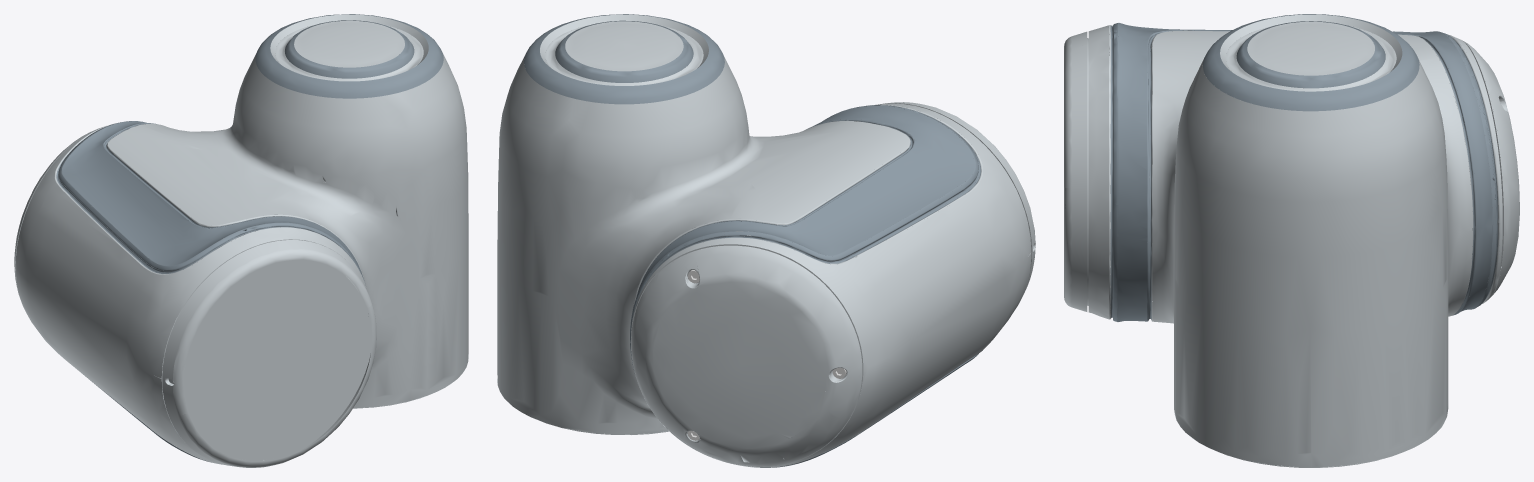
3 renders of one model, left to right at view 1: azimuth 30°, elevation 25°; view 2: azimuth 150°, elevation 25°; view 3: azimuth 270°, elevation 25°, orthographic. The views are drawn at different scales.
Visible parts, largest first — view 1: link_6.design_diana_v2.link_6; view 2: link_6.design_diana_v2.link_6; view 3: link_6.design_diana_v2.link_6.
Boxes of the visible parts, x1=… form: link_6.design_diana_v2.link_6: x1=14, y1=14, x2=468, y2=467; link_6.design_diana_v2.link_6: x1=497, y1=14, x2=1035, y2=467; link_6.design_diana_v2.link_6: x1=1064, y1=14, x2=1519, y2=467.
Bounding box in the file's own units: 0.1874 × 0.1635 × 0.1447.
